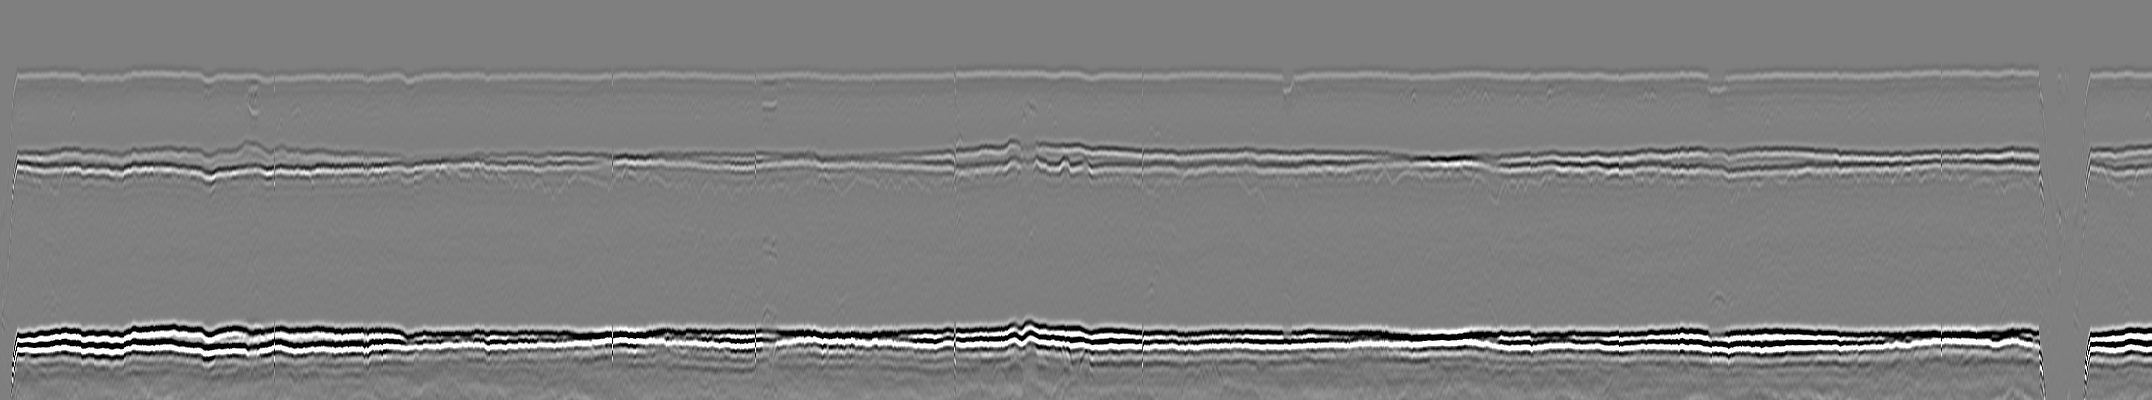fault: (2024, 44, 2108, 140), (2033, 147, 2108, 235), (1002, 122, 1057, 205), (1696, 56, 1739, 115)
